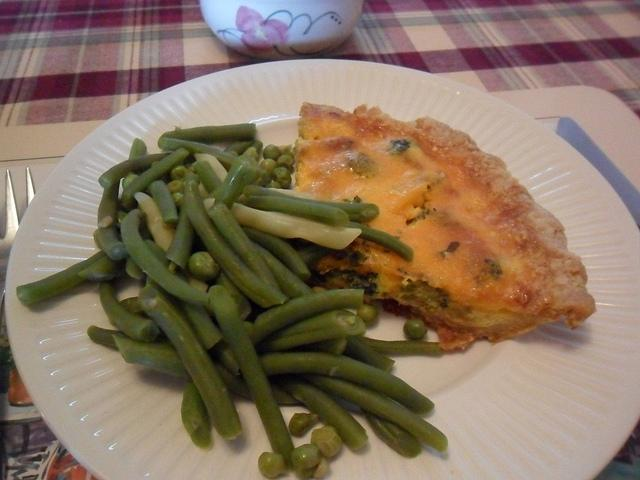broccoli: (394, 280, 448, 314), (348, 270, 378, 296), (346, 154, 375, 174)
green bean: (208, 286, 296, 470), (140, 288, 242, 438), (279, 372, 448, 454), (184, 180, 288, 308), (259, 351, 435, 415), (120, 209, 210, 306), (203, 198, 362, 250), (268, 374, 368, 450), (207, 202, 283, 294), (253, 289, 365, 345), (242, 185, 380, 223), (17, 248, 108, 305), (256, 310, 366, 352), (120, 147, 190, 209), (248, 238, 317, 300), (100, 274, 160, 342), (78, 228, 154, 280), (214, 360, 303, 404), (242, 226, 310, 282), (165, 172, 200, 271), (243, 196, 350, 226), (360, 407, 420, 460), (344, 221, 414, 262), (98, 152, 174, 189), (158, 136, 238, 171), (134, 192, 176, 253), (158, 123, 256, 148), (178, 300, 224, 351), (180, 378, 210, 449), (214, 268, 252, 320), (145, 240, 187, 284), (214, 159, 250, 210), (344, 338, 396, 373), (358, 336, 444, 357), (277, 336, 347, 357), (147, 180, 179, 224), (122, 138, 147, 190), (98, 225, 130, 261), (86, 325, 134, 348), (98, 179, 120, 229), (210, 341, 240, 377), (192, 161, 222, 194), (290, 444, 322, 471), (288, 412, 320, 436), (258, 451, 286, 478), (116, 209, 146, 232), (266, 188, 316, 200), (126, 255, 146, 280), (223, 140, 254, 156), (120, 296, 146, 315), (260, 158, 278, 176), (241, 147, 259, 161), (250, 140, 263, 156)
pea: (311, 426, 343, 458), (289, 442, 322, 469), (189, 252, 219, 280), (258, 452, 285, 478), (288, 413, 318, 435), (403, 318, 428, 338), (357, 303, 378, 326), (273, 167, 291, 188), (276, 154, 294, 173), (263, 144, 281, 162), (259, 159, 278, 175), (171, 166, 187, 182), (168, 180, 184, 194), (280, 144, 294, 158), (172, 192, 184, 208)
